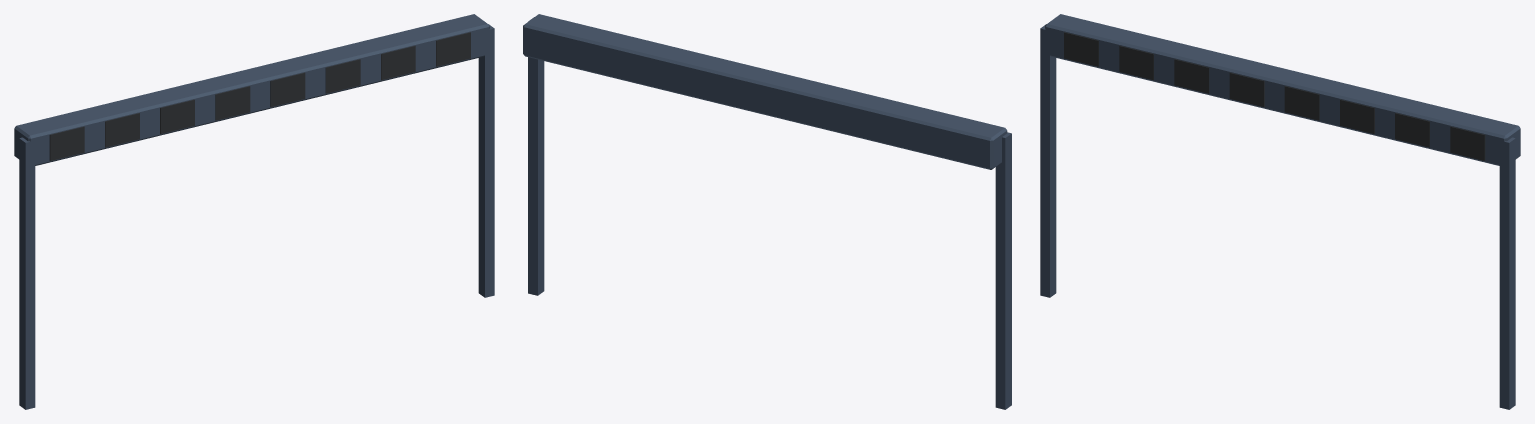
File: ms1_door.obj
The picture shows the model from 3 angles, left to right: view 1: azimuth 30°, elevation 25°; view 2: azimuth 150°, elevation 25°; view 3: azimuth 330°, elevation 25°; orthographic projection.
Parts seen in each view (by area): view 1: ms1_door; view 2: ms1_door; view 3: ms1_door.
Part boxes in pixels (x1=…): ms1_door: x1=14, y1=14, x2=494, y2=409; ms1_door: x1=523, y1=14, x2=1011, y2=409; ms1_door: x1=1040, y1=14, x2=1520, y2=409.
Size of the model in its own units: 6.8 by 3.77 by 0.41.
